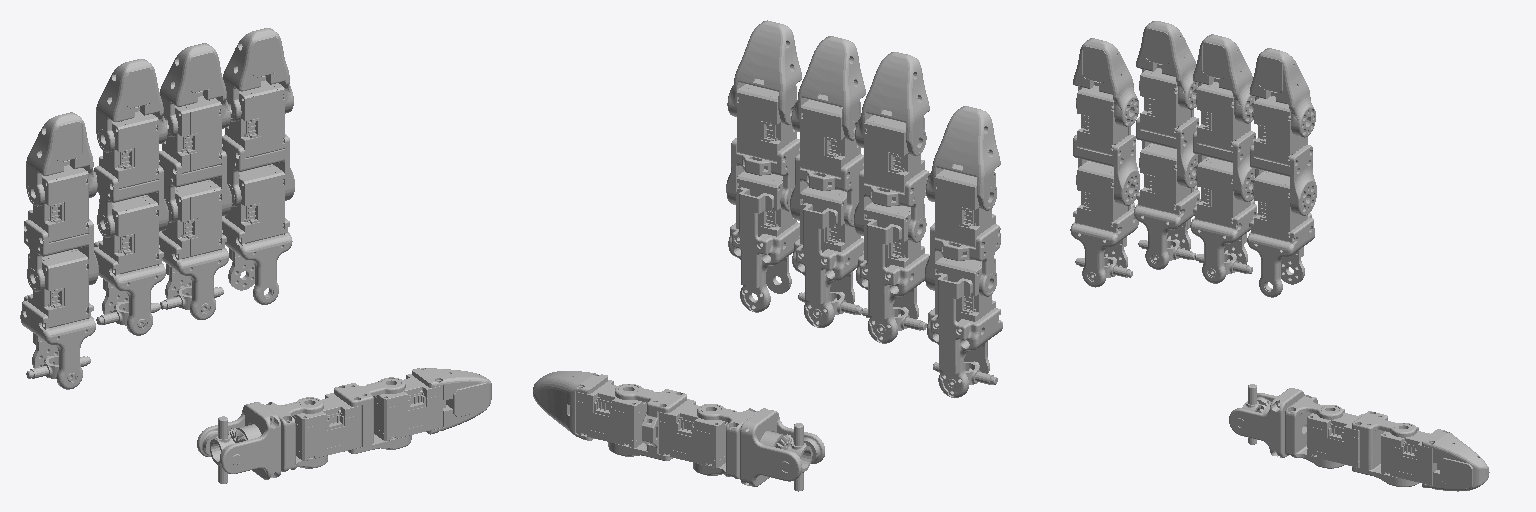
--- Render facts (derived) ---
Views: 3 orthographic renders of the robot side by side, from view 1: azimuth 30°, elevation 25°; view 2: azimuth 150°, elevation 25°; view 3: azimuth 330°, elevation 25°.
Robot: rapidhand — 21 links, 20 joints (20 revolute); root link BASE; default pose: every joint at zero.
Links seen in each view (by area): view 1: IMCPS, LMCPS, RMCPS, MMCPS, TDIP, LPIP, TPIP, RPIP, IPIP, MPIP, TMCPF, RDIP (+7 smaller); view 2: IMCPS, LMCPS, RMCPS, MMCPS, TDIP, LPIP, TPIP, RPIP, MPIP, IPIP, TMCPF, RDIP (+7 smaller); view 3: IMCPS, TDIP, LMCPS, RMCPS, MMCPS, TPIP, IPIP, LPIP, MPIP, RPIP, IDIP, LDIP (+4 smaller).
Boxes of the visible links, bbox=[...] form: IMCPS: bbox=[222, 164, 292, 304]; LMCPS: bbox=[20, 249, 95, 389]; RMCPS: bbox=[94, 195, 165, 335]; MMCPS: bbox=[159, 180, 228, 319]; TDIP: bbox=[366, 368, 491, 440]; LPIP: bbox=[24, 165, 98, 291]; TPIP: bbox=[285, 377, 411, 460]; RPIP: bbox=[94, 111, 168, 237]; IPIP: bbox=[222, 80, 294, 206]; MPIP: bbox=[159, 96, 231, 222]; TMCPF: bbox=[197, 402, 280, 483]; RDIP: bbox=[96, 59, 167, 152]; IMCPS: bbox=[728, 171, 799, 312]; LMCPS: bbox=[927, 257, 1002, 397]; RMCPS: bbox=[856, 202, 929, 343]; MMCPS: bbox=[792, 186, 863, 327]; TDIP: bbox=[533, 371, 653, 447]; LPIP: bbox=[925, 169, 1000, 296]; TPIP: bbox=[608, 384, 736, 467]; RPIP: bbox=[854, 115, 929, 242]; MPIP: bbox=[790, 99, 863, 226]; IPIP: bbox=[726, 84, 799, 211]; TMCPF: bbox=[740, 408, 824, 491]; RDIP: bbox=[855, 52, 929, 155]; IMCPS: bbox=[1247, 171, 1314, 297]; TDIP: bbox=[1381, 427, 1489, 491]; LMCPS: bbox=[1070, 161, 1138, 287]; RMCPS: bbox=[1134, 143, 1200, 269]; MMCPS: bbox=[1190, 157, 1257, 283]; TPIP: bbox=[1307, 409, 1418, 486]; IPIP: bbox=[1250, 96, 1316, 215]; LPIP: bbox=[1073, 85, 1139, 205]; MPIP: bbox=[1193, 82, 1255, 201]; RPIP: bbox=[1136, 68, 1198, 187]; IDIP: bbox=[1249, 48, 1315, 137]; LDIP: bbox=[1073, 38, 1138, 127].
Size in the robot's own frame: 0.2619 by 0.0311 by 0.245 metres.
Meshes: 21 distinct files referenced, 19 mesh visuals loaded (19 binary STL); not drawn: 1 (reference not matched to a file when rendering), 1 (file found but could not be loaded).

URDF robot description (rapidhand):
<?xml version="1.0" encoding="utf-8"?>
<!-- This URDF was automatically created by SolidWorks to URDF Exporter! Originally created by Stephen Brawner ([email redacted]) 
     Commit Version: 1.6.0-4-g7f85cfe  Build Version: 1.6.7995.38578
     For more information, please see http://wiki.ros.org/sw_urdf_exporter -->
<robot
  name="rapidhand">
  <link
    name="BASE">
    <inertial>
      <origin
        xyz="-0.00487361644963443 0.00202576490845328 0.0533472117698908"
        rpy="0 0 0" />
      <mass
        value="0.440289695299581" />
      <inertia
        ixx="0.000347981417193963"
        ixy="5.31146472663289E-06"
        ixz="-4.08105216846695E-05"
        iyy="0.00061617049726866"
        iyz="-2.39642944264747E-05"
        izz="0.000465938077374864" />
    </inertial>
    <visual>
      <origin
        xyz="0 0 0"
        rpy="0 0 0" />
      <geometry>
        <mesh
          filename="package://rapidhand/meshes/BASE.STL" />
      </geometry>
      <material
        name="">
        <color
          rgba="0.752941176470588 0.752941176470588 0.752941176470588 1" />
      </material>
    </visual>
    <collision>
      <origin
        xyz="0 0 0"
        rpy="0 0 0" />
      <geometry>
        <mesh
          filename="package://rapidhand/meshes/BASE.STL" />
      </geometry>
    </collision>
  </link>
  <link
    name="TMCPF">
    <inertial>
      <origin
        xyz="5.43874579400638E-09 0.000173367279422285 0.0134848473102515"
        rpy="0 0 0" />
      <mass
        value="0.00867255670420181" />
      <inertia
        ixx="7.67041806414348E-07"
        ixy="-1.82709963476403E-13"
        ixz="5.14245370735381E-14"
        iyy="1.24661758171433E-06"
        iyz="8.61105358367295E-10"
        izz="8.26590920303468E-07" />
    </inertial>
    <visual>
      <origin
        xyz="0 0 0"
        rpy="0 0 0" />
      <geometry>
        <mesh
          filename="package://rapidhand/meshes/TMCPF.STL" />
      </geometry>
      <material
        name="">
        <color
          rgba="0.752941176470588 0.752941176470588 0.752941176470588 1" />
      </material>
    </visual>
    <collision>
      <origin
        xyz="0 0 0"
        rpy="0 0 0" />
      <geometry>
        <mesh
          filename="package://rapidhand/meshes/TMCPF.STL" />
      </geometry>
    </collision>
  </link>
  <joint
    name="TF"
    type="revolute">
    <origin
      xyz="0.036 -0.004 0.043"
      rpy="0 1.5708 0" />
    <parent
      link="BASE" />
    <child
      link="TMCPF" />
    <axis
      xyz="-1 0 0" />
    <limit
      lower="-3.14"
      upper="3.14"
      effort="1"
      velocity="1" />
  </joint>
  <link
    name="TMCPS">
    <inertial>
      <origin
        xyz="0.00113278662589469 -1.13908234303239E-08 -0.00229033918513943"
        rpy="0 0 0" />
      <mass
        value="0.00961656020732061" />
      <inertia
        ixx="7.2565135717272E-07"
        ixy="-2.31609281014523E-13"
        ixz="-2.38773099457585E-08"
        iyy="5.55204118086207E-07"
        iyz="8.34739429589534E-14"
        izz="4.99903953739093E-07" />
    </inertial>
    <visual>
      <origin
        xyz="0 0 0"
        rpy="0 0 0" />
      <geometry>
        <mesh
          filename="package://rapidhand/meshes/TMCPS.STL" />
      </geometry>
      <material
        name="">
        <color
          rgba="0.752941176470588 0.752941176470588 0.752941176470588 1" />
      </material>
    </visual>
    <collision>
      <origin
        xyz="0 0 0"
        rpy="0 0 0" />
      <geometry>
        <mesh
          filename="package://rapidhand/meshes/TMCPS.STL" />
      </geometry>
    </collision>
  </link>
  <joint
    name="TS"
    type="revolute">
    <origin
      xyz="0 0 0.0309"
      rpy="0 0 0" />
    <parent
      link="TMCPF" />
    <child
      link="TMCPS" />
    <axis
      xyz="0 -1 0" />
    <limit
      lower="-3.14"
      upper="3.14"
      effort="1"
      velocity="1" />
  </joint>
  <link
    name="TPIP">
    <inertial>
      <origin
        xyz="0.00115636106302726 0.0001035074072121 0.0147895764840127"
        rpy="0 0 0" />
      <mass
        value="0.0218638036213291" />
      <inertia
        ixx="2.50540307346291E-06"
        ixy="1.98429515838161E-09"
        ixz="-7.73824368459479E-08"
        iyy="2.17139629099095E-06"
        iyz="9.2599657965607E-09"
        izz="1.01723034142232E-06" />
    </inertial>
    <visual>
      <origin
        xyz="0 0 0"
        rpy="0 0 0" />
      <geometry>
        <mesh
          filename="package://rapidhand/meshes/TPIP.STL" />
      </geometry>
      <material
        name="">
        <color
          rgba="0.752941176470588 0.752941176470588 0.752941176470588 1" />
      </material>
    </visual>
    <collision>
      <origin
        xyz="0 0 0"
        rpy="0 0 0" />
      <geometry>
        <mesh
          filename="package://rapidhand/meshes/TPIP.STL" />
      </geometry>
    </collision>
  </link>
  <joint
    name="TP"
    type="revolute">
    <origin
      xyz="0 0 0.0185"
      rpy="0 0 0" />
    <parent
      link="TMCPS" />
    <child
      link="TPIP" />
    <axis
      xyz="-1 0 0" />
    <limit
      lower="-3.14"
      upper="3.14"
      effort="1"
      velocity="1" />
  </joint>
  <link
    name="TDIP">
    <inertial>
      <origin
        xyz="0.000385304884610346 -0.000805905719972057 0.0184635035729084"
        rpy="0 0 0" />
      <mass
        value="0.025657649089922" />
      <inertia
        ixx="2.73446903195404E-06"
        ixy="1.7863106894769E-09"
        ixz="-8.64810580004142E-09"
        iyy="2.44743923159286E-06"
        iyz="8.3296520156693E-08"
        izz="1.00880126944463E-06" />
    </inertial>
    <visual>
      <origin
        xyz="0 0 0"
        rpy="0 0 0" />
      <geometry>
        <mesh
          filename="package://rapidhand/meshes/TDIP.STL" />
      </geometry>
      <material
        name="">
        <color
          rgba="0.752941176470588 0.752941176470588 0.752941176470588 1" />
      </material>
    </visual>
    <collision>
      <origin
        xyz="0 0 0"
        rpy="0 0 0" />
      <geometry>
        <mesh
          filename="package://rapidhand/meshes/TDIP.STL" />
      </geometry>
    </collision>
  </link>
  <joint
    name="TD"
    type="revolute">
    <origin
      xyz="0 0 0.0465"
      rpy="0 0 0" />
    <parent
      link="TPIP" />
    <child
      link="TDIP" />
    <axis
      xyz="-1 0 0" />
    <limit
      lower="-3.14"
      upper="3.14"
      effort="1"
      velocity="1" />
  </joint>
  <link
    name="IMCPF">
    <inertial>
      <origin
        xyz="-1.23449232967976E-07 -1.55233664823548E-07 1.03178869920173E-07"
        rpy="0 0 0" />
      <mass
        value="0.00105509319213642" />
      <inertia
        ixx="3.18851603791441E-08"
        ixy="-3.32607689523367E-15"
        ixz="-5.1173639263051E-14"
        iyy="6.81180906084367E-08"
        iyz="1.03660834170811E-13"
        izz="9.44143585547911E-08" />
    </inertial>
    <visual>
      <origin
        xyz="0 0 0"
        rpy="0 0 0" />
      <geometry>
        <mesh
          filename="package://rapidhand/meshes/IMCPF.STL" />
      </geometry>
      <material
        name="">
        <color
          rgba="0.752941176470588 0.752941176470588 0.752941176470588 1" />
      </material>
    </visual>
    <collision>
      <origin
        xyz="0 0 0"
        rpy="0 0 0" />
      <geometry>
        <mesh
          filename="package://rapidhand/meshes/IMCPF.STL" />
      </geometry>
    </collision>
  </link>
  <joint
    name="IF"
    type="revolute">
    <origin
      xyz="0.054 -0.004 0.13"
      rpy="0 0 0" />
    <parent
      link="BASE" />
    <child
      link="IMCPF" />
    <axis
      xyz="-1 0 0" />
    <limit
      lower="-3.14"
      upper="3.14"
      effort="1"
      velocity="1" />
  </joint>
  <link
    name="IMCPS">
    <inertial>
      <origin
        xyz="0.00051151655399137 0.00128219675748885 0.0360582073884051"
        rpy="0 0 0" />
      <mass
        value="0.0255680145005863" />
      <inertia
        ixx="2.87973996438069E-06"
        ixy="4.2972188524556E-09"
        ixz="-5.58008522219328E-09"
        iyy="3.06430577453356E-06"
        iyz="1.74224474142161E-08"
        izz="1.39436516106889E-06" />
    </inertial>
    <visual>
      <origin
        xyz="0 0 0"
        rpy="0 0 0" />
      <geometry>
        <mesh
          filename="package://rapidhand/meshes/IMCPS.STL" />
      </geometry>
      <material
        name="">
        <color
          rgba="0.752941176470588 0.752941176470588 0.752941176470588 1" />
      </material>
    </visual>
    <collision>
      <origin
        xyz="0 0 0"
        rpy="0 0 0" />
      <geometry>
        <mesh
          filename="package://rapidhand/meshes/IMCPS.STL" />
      </geometry>
    </collision>
  </link>
  <joint
    name="IS"
    type="revolute">
    <origin
      xyz="0 0 0"
      rpy="0 0 0" />
    <parent
      link="IMCPF" />
    <child
      link="IMCPS" />
    <axis
      xyz="0 1 0" />
    <limit
      lower="-3.14"
      upper="3.14"
      effort="1"
      velocity="1" />
  </joint>
  <link
    name="IPIP">
    <inertial>
      <origin
        xyz="0.00115558034102659 0.000110062274357295 0.0317104165010226"
        rpy="0 0 0" />
      <mass
        value="0.0218638098074725" />
      <inertia
        ixx="2.50540377307788E-06"
        ixy="1.8163924082073E-09"
        ixz="7.73826438143791E-08"
        iyy="2.17139668013854E-06"
        iyz="-6.50298139378206E-09"
        izz="1.0172309313264E-06" />
    </inertial>
    <visual>
      <origin
        xyz="0 0 0"
        rpy="0 0 0" />
      <geometry>
        <mesh
          filename="package://rapidhand/meshes/IPIP.STL" />
      </geometry>
      <material
        name="">
        <color
          rgba="0.752941176470588 0.752941176470588 0.752941176470588 1" />
      </material>
    </visual>
    <collision>
      <origin
        xyz="0 0 0"
        rpy="0 0 0" />
      <geometry>
        <mesh
          filename="package://rapidhand/meshes/IPIP.STL" />
      </geometry>
    </collision>
  </link>
  <joint
    name="IP"
    type="revolute">
    <origin
      xyz="0 0 0.052"
      rpy="0 0 0" />
    <parent
      link="IMCPS" />
    <child
      link="IPIP" />
    <axis
      xyz="-1 0 0" />
    <limit
      lower="-3.14"
      upper="3.14"
      effort="1"
      velocity="1" />
  </joint>
  <link
    name="IDIP">
    <inertial>
      <origin
        xyz="0.000735870667299736 -0.00251219154785661 0.021014755592917"
        rpy="0 0 0" />
      <mass
        value="0.0103515223793345" />
      <inertia
        ixx="1.17694075878933E-06"
        ixy="1.0899242697752E-10"
        ixz="7.47171593967575E-08"
        iyy="1.16405050403568E-06"
        iyz="1.10650844003481E-07"
        izz="4.02880137181451E-07" />
    </inertial>
    <visual>
      <origin
        xyz="0 0 0"
        rpy="0 0 0" />
      <geometry>
        <mesh
          filename="package://rapidhand/meshes/IDIP.STL" />
      </geometry>
      <material
        name="">
        <color
          rgba="0.752941176470588 0.752941176470588 0.752941176470588 1" />
      </material>
    </visual>
    <collision>
      <origin
        xyz="0 0 0"
        rpy="0 0 0" />
      <geometry>
        <mesh
          filename="package://rapidhand/meshes/IDIP.STL" />
      </geometry>
    </collision>
  </link>
  <joint
    name="ID"
    type="revolute">
    <origin
      xyz="0 0 0.0465"
      rpy="0 0 0" />
    <parent
      link="IPIP" />
    <child
      link="IDIP" />
    <axis
      xyz="1 0 0" />
    <limit
      lower="-3.14"
      upper="3.14"
      effort="1"
      velocity="1" />
  </joint>
  <link
    name="MMCPF">
    <inertial>
      <origin
        xyz="-1.23449232967976E-07 -1.55233664825283E-07 1.03178869920173E-07"
        rpy="0 0 0" />
      <mass
        value="0.00105509319213642" />
      <inertia
        ixx="3.1885160379144E-08"
        ixy="-3.32607682058185E-15"
        ixz="-5.117363926248E-14"
        iyy="6.81180906084367E-08"
        iyz="1.03660834092638E-13"
        izz="9.4414358554791E-08" />
    </inertial>
    <visual>
      <origin
        xyz="0 0 0"
        rpy="0 0 0" />
      <geometry>
        <mesh
          filename="package://rapidhand/meshes/MMCPF.STL" />
      </geometry>
      <material
        name="">
        <color
          rgba="0.752941176470588 0.752941176470588 0.752941176470588 1" />
      </material>
    </visual>
    <collision>
      <origin
        xyz="0 0 0"
        rpy="0 0 0" />
      <geometry>
        <mesh
          filename="package://rapidhand/meshes/MMCPF.STL" />
      </geometry>
    </collision>
  </link>
  <joint
    name="MF"
    type="revolute">
    <origin
      xyz="0.018 -0.004 0.13"
      rpy="0 0 0" />
    <parent
      link="BASE" />
    <child
      link="MMCPF" />
    <axis
      xyz="-1 0 0" />
    <limit
      lower="-3.14"
      upper="3.14"
      effort="1"
      velocity="1" />
  </joint>
  <link
    name="MMCPS">
    <inertial>
      <origin
        xyz="0.000511516467769143 0.00128219694955495 0.0360582071081458"
        rpy="0 0 0" />
      <mass
        value="0.0255680149320248" />
      <inertia
        ixx="2.87973997290972E-06"
        ixy="4.29722665087371E-09"
        ixz="-5.58008711227301E-09"
        iyy="3.06430582000263E-06"
        iyz="1.74224487559017E-08"
        izz="1.39436521176989E-06" />
    </inertial>
    <visual>
      <origin
        xyz="0 0 0"
        rpy="0 0 0" />
      <geometry>
        <mesh
          filename="package://rapidhand/meshes/MMCPS.STL" />
      </geometry>
      <material
        name="">
        <color
          rgba="0.752941176470588 0.752941176470588 0.752941176470588 1" />
      </material>
    </visual>
    <collision>
      <origin
        xyz="0 0 0"
        rpy="0 0 0" />
      <geometry>
        <mesh
          filename="package://rapidhand/meshes/MMCPS.STL" />
      </geometry>
    </collision>
  </link>
  <joint
    name="MS"
    type="revolute">
    <origin
      xyz="0 0 0"
      rpy="0 0 0" />
    <parent
      link="MMCPF" />
    <child
      link="MMCPS" />
    <axis
      xyz="0 1 0" />
    <limit
      lower="-3.14"
      upper="3.14"
      effort="1"
      velocity="1" />
  </joint>
  <link
    name="MPIP">
    <inertial>
      <origin
        xyz="0.00115558034097 0.000110062274357156 0.0317104165010227"
        rpy="0 0 0" />
      <mass
        value="0.0218638098074725" />
      <inertia
        ixx="2.50540377307788E-06"
        ixy="1.81639240820665E-09"
        ixz="7.73826438143785E-08"
        iyy="2.17139668013854E-06"
        iyz="-6.50298139378068E-09"
        izz="1.0172309313264E-06" />
    </inertial>
    <visual>
      <origin
        xyz="0 0 0"
        rpy="0 0 0" />
      <geometry>
        <mesh
          filename="package://rapidhand/meshes/MPIP.STL" />
      </geometry>
      <material
        name="">
        <color
          rgba="0.752941176470588 0.752941176470588 0.752941176470588 1" />
      </material>
    </visual>
    <collision>
      <origin
        xyz="0 0 0"
        rpy="0 0 0" />
      <geometry>
        <mesh
          filename="package://rapidhand/meshes/MPIP.STL" />
      </geometry>
    </collision>
  </link>
  <joint
    name="MP"
    type="revolute">
    <origin
      xyz="0 0 0.052"
      rpy="0 0 0" />
    <parent
      link="MMCPS" />
    <child
      link="MPIP" />
    <axis
      xyz="-1 0 0" />
    <limit
      lower="-3.14"
      upper="3.14"
      effort="1"
      velocity="1" />
  </joint>
  <link
    name="MDIP">
    <inertial>
      <origin
        xyz="0.00073587003347144 -0.0025121912941592 0.0210147562316098"
        rpy="0 0 0" />
      <mass
        value="0.0103515217937735" />
      <inertia
        ixx="1.17694068464772E-06"
        ixy="1.08980965760536E-10"
        ixz="7.47171398387616E-08"
        iyy="1.16405044111022E-06"
        iyz="1.10650875264908E-07"
        izz="4.02880111598232E-07" />
    </inertial>
    <visual>
      <origin
        xyz="0 0 0"
        rpy="0 0 0" />
      <geometry>
        <mesh
          filename="package://rapidhand/meshes/MDIP.STL" />
      </geometry>
      <material
        name="">
        <color
          rgba="0.752941176470588 0.752941176470588 0.752941176470588 1" />
      </material>
    </visual>
    <collision>
      <origin
        xyz="0 0 0"
        rpy="0 0 0" />
      <geometry>
        <mesh
          filename="package://rapidhand/meshes/MDIP.STL" />
      </geometry>
    </collision>
  </link>
  <joint
    name="MD"
    type="revolute">
    <origin
      xyz="0 0 0.0465"
      rpy="0 0 0" />
    <parent
      link="MPIP" />
    <child
      link="MDIP" />
    <axis
      xyz="1 0 0" />
    <limit
      lower="-3.14"
      upper="3.14"
      effort="1"
      velocity="1" />
  </joint>
  <link
    name="RMCPF">
    <inertial>
      <origin
        xyz="-1.23449232974915E-07 -1.55233664811405E-07 1.03178869892417E-07"
        rpy="0 0 0" />
      <mass
        value="0.00105509319213642" />
      <inertia
        ixx="3.18851603791441E-08"
        ixy="-3.32607682729697E-15"
        ixz="-5.11736393384821E-14"
        iyy="6.81180906084367E-08"
        iyz="1.03660834101083E-13"
        izz="9.44143585547911E-08" />
    </inertial>
    <visual>
      <origin
        xyz="0 0 0"
        rpy="0 0 0" />
      <geometry>
        <mesh
          filename="package://rapidhand/meshes/RMCPF.STL" />
      </geometry>
      <material
        name="">
        <color
          rgba="0.752941176470588 0.752941176470588 0.752941176470588 1" />
      </material>
    </visual>
    <collision>
      <origin
        xyz="0 0 0"
        rpy="0 0 0" />
      <geometry>
        <mesh
          filename="package://rapidhand/meshes/RMCPF.STL" />
      </geometry>
    </collision>
  </link>
  <joint
    name="RF"
    type="revolute">
    <origin
      xyz="-0.018 -0.004 0.13"
      rpy="0 0 0" />
    <parent
      link="BASE" />
    <child
      link="RMCPF" />
    <axis
      xyz="-1 0 0" />
    <limit
      lower="-3.14"
      upper="3.14"
      effort="1"
      velocity="1" />
  </joint>
  <link
    name="RMCPS">
    <inertial>
      <origin
        xyz="0.000511516543022492 0.00128219675749102 0.0360582073884084"
        rpy="0 0 0" />
      <mass
        value="0.0255680145005759" />
      <inertia
        ixx="2.87973996437977E-06"
        ixy="4.29721904134885E-09"
        ixz="-5.58008481288554E-09"
        iyy="3.06434728045293E-06"
        iyz="1.74224474141735E-08"
        izz="1.39440666698883E-06" />
    </inertial>
    <visual>
      <origin
        xyz="0 0 0"
        rpy="0 0 0" />
      <geometry>
        <mesh
          filename="package://rapidhand/meshes/RMCPS.STL" />
      </geometry>
      <material
        name="">
        <color
          rgba="0.752941176470588 0.752941176470588 0.752941176470588 1" />
      </material>
    </visual>
    <collision>
      <origin
        xyz="0 0 0"
        rpy="0 0 0" />
      <geometry>
        <mesh
          filename="package://rapidhand/meshes/RMCPS.STL" />
      </geometry>
    </collision>
  </link>
  <joint
    name="RS"
    type="revolute">
    <origin
      xyz="0 0 0"
      rpy="0 0 0" />
    <parent
      link="RMCPF" />
    <child
      link="RMCPS" />
    <axis
      xyz="0 1 0" />
    <limit
      lower="-3.14"
      upper="3.14"
      effort="1"
      velocity="1" />
  </joint>
  <link
    name="RPIP">
    <inertial>
      <origin
        xyz="0.00115558034102733 0.000110062274356899 0.0317104165010224"
        rpy="0 0 0" />
      <mass
        value="0.0218638098074725" />
      <inertia
        ixx="2.50540377307788E-06"
        ixy="1.81639240820689E-09"
        ixz="7.73826438143805E-08"
        iyy="2.17139668013854E-06"
        iyz="-6.50298139378078E-09"
        izz="1.0172309313264E-06" />
    </inertial>
    <visual>
      <origin
        xyz="0 0 0"
        rpy="0 0 0" />
      <geometry>
        <mesh
          filename="package://rapidhand/meshes/RPIP.STL" />
      </geometry>
      <material
        name="">
        <color
          rgba="0.752941176470588 0.752941176470588 0.752941176470588 1" />
      </material>
    </visual>
    <collision>
      <origin
        xyz="0 0 0"
        rpy="0 0 0" />
      <geometry>
        <mesh
          filename="package://rapidhand/meshes/RPIP.STL" />
      </geometry>
    </collision>
  </link>
  <joint
    name="RP"
    type="revolute">
    <origin
      xyz="0 0 0.052"
      rpy="0 0 0" />
    <parent
      link="RMCPS" />
    <child
      link="RPIP" />
    <axis
      xyz="-1 0 0" />
    <limit
      lower="-3.14"
      upper="3.14"
      effort="1"
      velocity="1" />
  </joint>
  <link
    name="RDIP">
    <inertial>
      <origin
        xyz="0.000735869975292142 -0.00251219127106798 0.0210147562227153"
        rpy="0 0 0" />
      <mass
        value="0.0103515217591085" />
      <inertia
        ixx="1.17694068870696E-06"
        ixy="1.08978738923934E-10"
        ixz="7.47171385069524E-08"
        iyy="1.16405044521866E-06"
        iyz="1.10650875070147E-07"
        izz="4.02880107508782E-07" />
    </inertial>
    <visual>
      <origin
        xyz="0 0 0"
        rpy="0 0 0" />
      <geometry>
        <mesh
          filename="package://rapidhand/meshes/RDIP.STL" />
      </geometry>
      <material
        name="">
        <color
          rgba="0.752941176470588 0.752941176470588 0.752941176470588 1" />
      </material>
    </visual>
    <collision>
      <origin
        xyz="0 0 0"
        rpy="0 0 0" />
      <geometry>
        <mesh
          filename="package://rapidhand/meshes/RDIP.STL" />
      </geometry>
    </collision>
  </link>
  <joint
    name="RD"
    type="revolute">
    <origin
      xyz="0 0 0.0465"
      rpy="0 0 0" />
    <parent
      link="RPIP" />
    <child
      link="RDIP" />
    <axis
      xyz="1 0 0" />
    <limit
      lower="-3.14"
      upper="3.14"
      effort="1"
      velocity="1" />
  </joint>
  <link
    name="LMCPF">
    <inertial>
      <origin
        xyz="-1.23449232974915E-07 -1.55233664811405E-07 1.03178869906295E-07"
        rpy="0 0 0" />
      <mass
        value="0.00105509319213642" />
      <inertia
        ixx="3.1885160379144E-08"
        ixy="-3.32607682703266E-15"
        ixz="-5.11736393554975E-14"
        iyy="6.81180906084366E-08"
        iyz="1.03660834073681E-13"
        izz="9.44143585547909E-08" />
    </inertial>
    <visual>
      <origin
        xyz="0 0 0"
        rpy="0 0 0" />
      <geometry>
        <mesh
          filename="package://rapidhand/meshes/LMCPF.STL" />
      </geometry>
      <material
        name="">
        <color
          rgba="0.752941176470588 0.752941176470588 0.752941176470588 1" />
      </material>
    </visual>
    <collision>
      <origin
        xyz="0 0 0"
        rpy="0 0 0" />
      <geometry>
        <mesh
          filename="package://rapidhand/meshes/LMCPF.STL" />
      </geometry>
    </collision>
  </link>
  <joint
    name="LF"
    type="revolute">
    <origin
      xyz="-0.058 -0.004 0.11"
      rpy="0 0 0" />
    <parent
      link="BASE" />
    <child
      link="LMCPF" />
    <axis
      xyz="-1 0 0" />
    <limit
      lower="-3.14"
      upper="3.14"
      effort="1"
      velocity="1" />
  </joint>
  <link
    name="LMCPS">
    <inertial>
      <origin
        xyz="0.000511516546674126 0.00128219675748947 0.0360582073884079"
        rpy="0 0 0" />
      <mass
        value="0.0255680145005756" />
      <inertia
        ixx="2.87973996437963E-06"
        ixy="4.29721881328803E-09"
        ixz="-5.58008513599923E-09"
        iyy="3.06430374528504E-06"
        iyz="1.74224474141677E-08"
        izz="1.39436313182104E-06" />
    </inertial>
    <visual>
      <origin
        xyz="0 0 0"
        rpy="0 0 0" />
      <geometry>
        <mesh
          filename="package://rapidhand/meshes/LMCPS.STL" />
      </geometry>
      <material
        name="">
        <color
          rgba="0.752941176470588 0.752941176470588 0.752941176470588 1" />
      </material>
    </visual>
    <collision>
      <origin
        xyz="0 0 0"
        rpy="0 0 0" />
      <geometry>
        <mesh
          filename="package://rapidhand/meshes/LMCPS.STL" />
      </geometry>
    </collision>
  </link>
  <joint
    name="LS"
    type="revolute">
    <origin
      xyz="0 0 0"
      rpy="0 0 0" />
    <parent
      link="LMCPF" />
    <child
      link="LMCPS" />
    <axis
      xyz="0 1 0" />
    <limit
      lower="-3.14"
      upper="3.14"
      effort="1"
      velocity="1" />
  </joint>
  <link
    name="LPIP">
    <inertial>
      <origin
        xyz="0.00115558034102762 0.00011006227435764 0.031710416501022"
        rpy="0 0 0" />
      <mass
        value="0.0218638098074725" />
      <inertia
        ixx="2.50540377307788E-06"
        ixy="1.81639240820656E-09"
        ixz="7.73826438143809E-08"
        iyy="2.17139668013854E-06"
        iyz="-6.5029813937801E-09"
        izz="1.0172309313264E-06" />
    </inertial>
    <visual>
      <origin
        xyz="0 0 0"
        rpy="0 0 0" />
      <geometry>
        <mesh
          filename="package://rapidhand/meshes/LPIP.STL" />
      </geometry>
      <material
        name="">
        <color
          rgba="0.752941176470588 0.752941176470588 0.752941176470588 1" />
      </material>
    </visual>
    <collision>
      <origin
        xyz="0 0 0"
        rpy="0 0 0" />
      <geometry>
        <mesh
          filename="package://rapidhand/meshes/LPIP.STL" />
      </geometry>
    </collision>
  </link>
  <joint
    name="LP"
    type="revolute">
    <origin
      xyz="0 0 0.052"
      rpy="0 0 0" />
    <parent
      link="LMCPS" />
    <child
      link="LPIP" />
    <axis
      xyz="-1 0 0" />
    <limit
      lower="-3.14"
      upper="3.14"
      effort="1"
      velocity="1" />
  </joint>
  <link
    name="LDIP">
    <inertial>
      <origin
        xyz="0.000735870207156916 -0.00251219124851578 0.0210147557253665"
        rpy="0 0 0" />
      <mass
        value="0.0103515214610938" />
      <inertia
        ixx="1.17694060249007E-06"
        ixy="1.08978271148726E-10"
        ixz="7.47171579290268E-08"
        iyy="1.16405035779421E-06"
        iyz="1.10650860312831E-07"
        izz="4.02880106236455E-07" />
    </inertial>
    <visual>
      <origin
        xyz="0 0 0"
        rpy="0 0 0" />
      <geometry>
        <mesh
          filename="package://rapidhand/meshes/LDIP.STL" />
      </geometry>
      <material
        name="">
        <color
          rgba="0.752941176470588 0.752941176470588 0.752941176470588 1" />
      </material>
    </visual>
    <collision>
      <origin
        xyz="0 0 0"
        rpy="0 0 0" />
      <geometry>
        <mesh
          filename="package://rapidhand/meshes/LDIP.STL" />
      </geometry>
    </collision>
  </link>
  <joint
    name="LD"
    type="revolute">
    <origin
      xyz="0 0 0.0465"
      rpy="0 0 0" />
    <parent
      link="LPIP" />
    <child
      link="LDIP" />
    <axis
      xyz="1 0 0" />
    <limit
      lower="-3.14"
      upper="3.14"
      effort="1"
      velocity="1" />
  </joint>
</robot>
